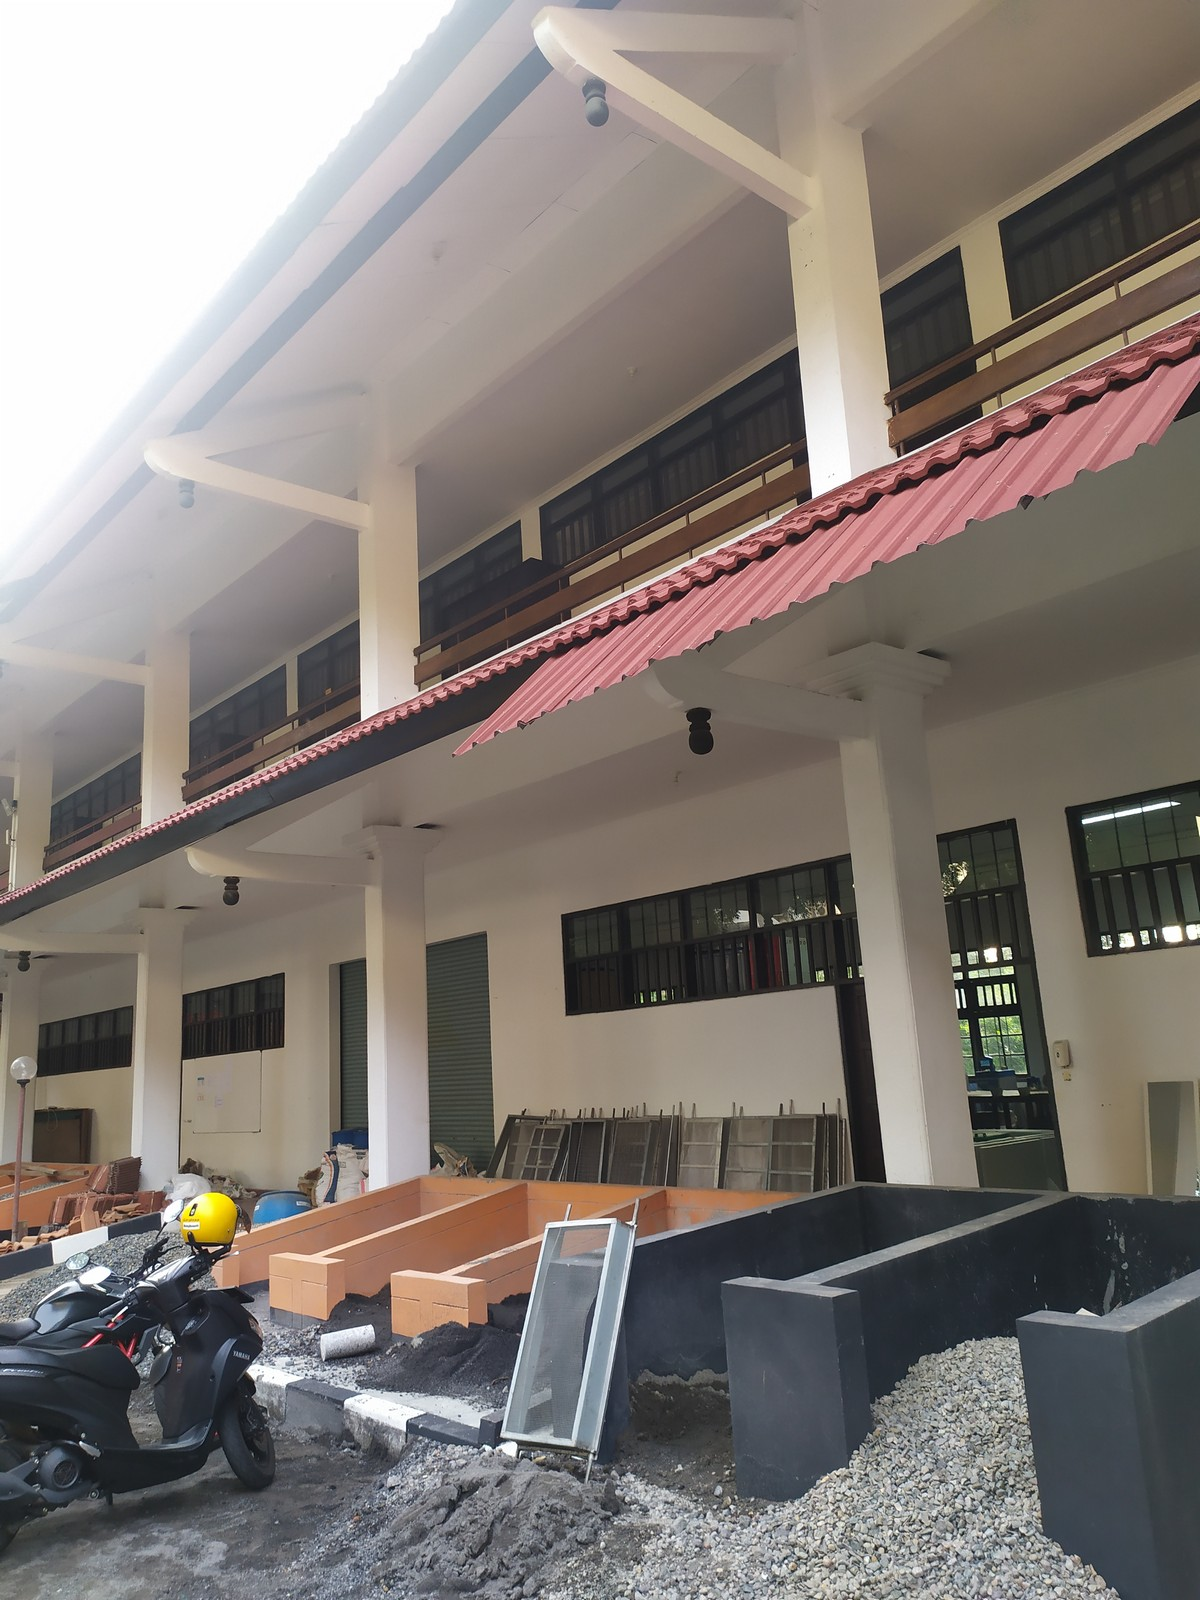concrete beam: (620, 76, 829, 229), (217, 467, 387, 540), (729, 679, 882, 757), (222, 848, 387, 900), (32, 648, 166, 695), (39, 923, 160, 963)
concrete column: (821, 674, 987, 1186), (756, 38, 911, 481), (354, 831, 441, 1186), (348, 446, 429, 712), (120, 913, 195, 1180), (132, 622, 203, 825)
